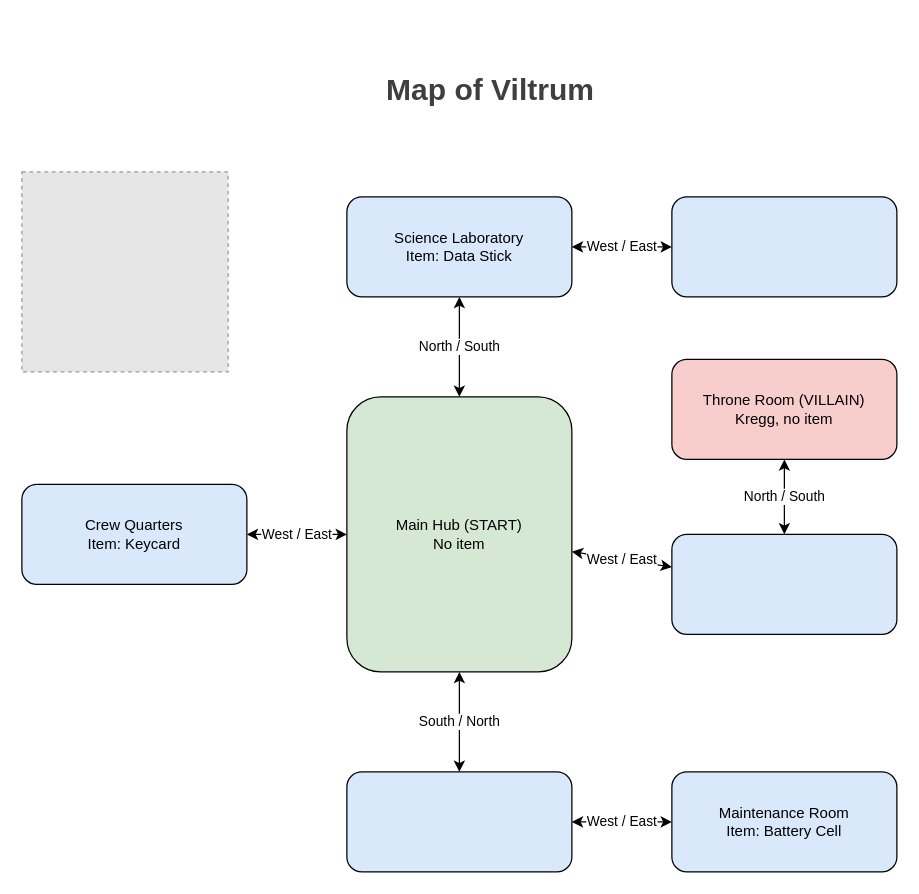
Some shapes in this 919 by 894 pixel diagram are drawn without their labels. Grey dashed boxes stand in for pictures. The shapes that lost their labels are listed below. From the top down, each one's centre as x and y in pixels, then its label:
the point at 784,246: Observation Tower Item: Navigation Map
the point at 784,583: Weapon Room Item: GreatSword
the point at 459,821: Medical Bay Item: Bandage
